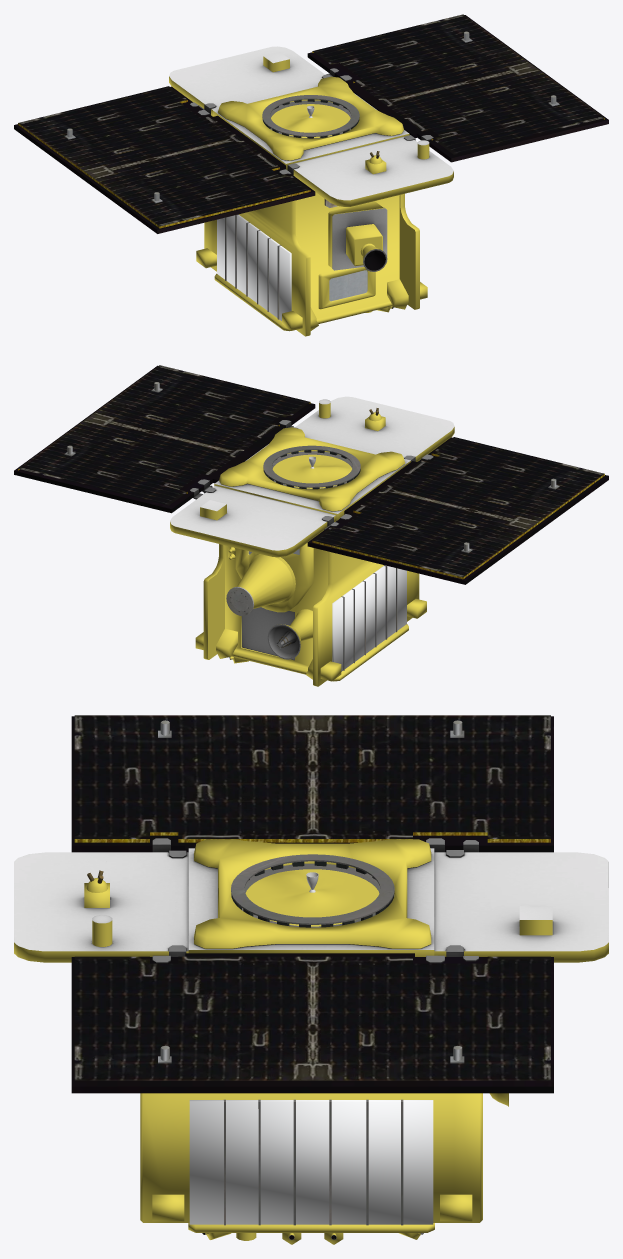
The model's file is grail.glb.
The picture shows the model from 3 angles, top to bottom: view 1: azimuth 30°, elevation 25°; view 2: azimuth 150°, elevation 25°; view 3: azimuth 270°, elevation 25°; orthographic projection. The views are drawn at different scales.
Parts seen in each view (by area): view 1: bus (×5), solar (×2); view 2: bus (×6), solar (×2); view 3: solar (×2), bus (×5).
Boxes of the visible parts, x1=… form: bus (×5): x1=169, y1=46, x2=453, y2=336; solar (×2): x1=14, y1=14, x2=608, y2=233; bus (×6): x1=170, y1=396, x2=454, y2=686; solar (×2): x1=14, y1=365, x2=608, y2=584; solar (×2): x1=71, y1=715, x2=553, y2=1093; bus (×5): x1=14, y1=838, x2=608, y2=1244.
Bounding box in the file's own units: 3.09 × 1.3 × 2.1.
9 materials, 6 textured.
